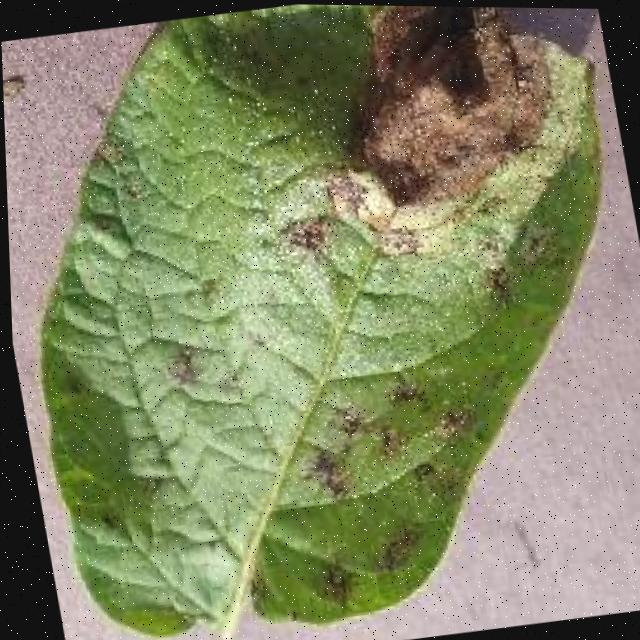Late_blight: (232, 3, 599, 286), (238, 347, 519, 631), (452, 229, 548, 329), (148, 316, 233, 417)
